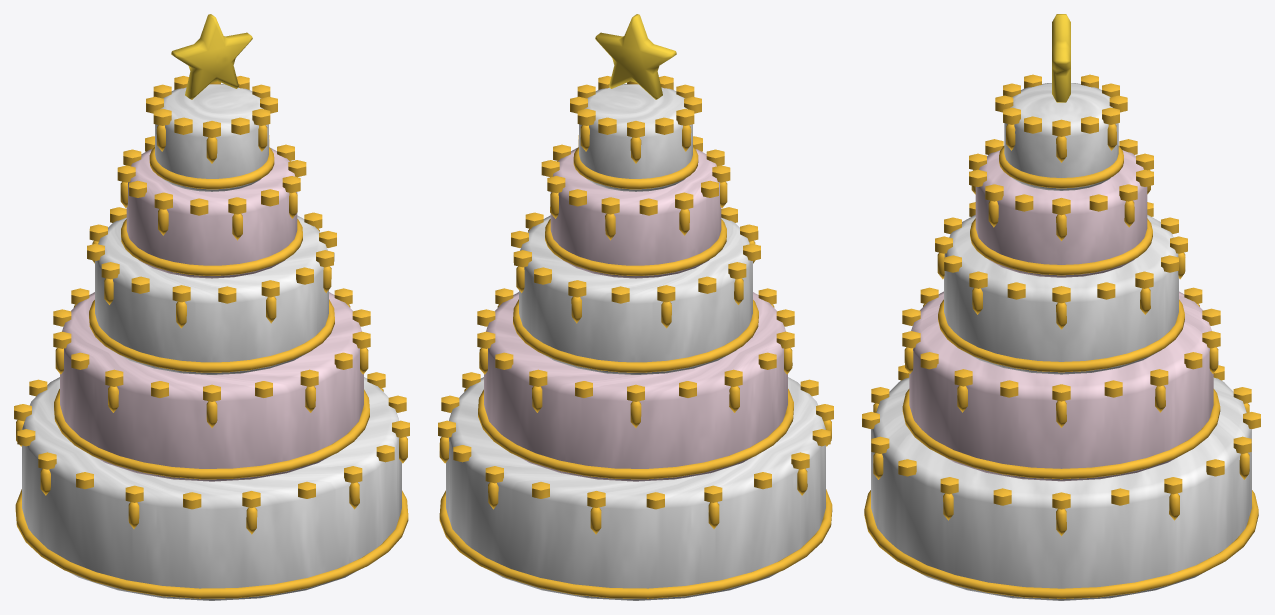
File: GrandCake.glb
3 views of the same model, side by side, from view 1: azimuth 30°, elevation 25°; view 2: azimuth 150°, elevation 25°; view 3: azimuth 270°, elevation 25° (orthographic).
Parts seen in each view (by area): view 1: Tier1, Tier2, Tier3, Tier4, Trim1, Trim2, Tier5, Trim3, Trim4, Trim5, Topper; view 2: Tier1, Tier2, Tier3, Tier4, Trim1, Trim2, Tier5, Trim3, Trim4, Trim5, Topper; view 3: Tier1, Tier2, Tier3, Tier4, Trim1, Trim2, Tier5, Trim3, Trim4, Trim5, Topper.
Boxes of the visible parts, box(x1,y1,x2,y2) form: Tier1: box(22, 377, 401, 600); Tier2: box(60, 292, 363, 481); Tier3: box(95, 215, 328, 374); Tier4: box(126, 147, 297, 278); Trim1: box(14, 372, 409, 598); Trim2: box(53, 288, 370, 479); Tier5: box(155, 84, 268, 191); Trim3: box(87, 207, 336, 372); Trim4: box(117, 135, 306, 275); Trim5: box(146, 76, 277, 189); Topper: box(171, 14, 252, 99); Tier1: box(446, 377, 825, 600); Tier2: box(484, 292, 787, 481); Tier3: box(519, 215, 752, 374); Tier4: box(550, 147, 721, 278); Trim1: box(438, 372, 833, 598); Trim2: box(477, 288, 794, 479); Tier5: box(579, 84, 692, 191); Trim3: box(511, 207, 760, 372); Trim4: box(541, 135, 730, 275); Trim5: box(570, 76, 701, 189); Topper: box(595, 14, 676, 99); Tier1: box(871, 377, 1251, 600); Tier2: box(909, 291, 1213, 481); Tier3: box(944, 215, 1178, 374); Tier4: box(975, 150, 1147, 277); Trim1: box(862, 365, 1260, 598); Trim2: box(902, 287, 1220, 479); Tier5: box(1004, 83, 1118, 190); Trim3: box(935, 202, 1187, 372); Trim4: box(969, 139, 1153, 275); Trim5: box(995, 74, 1127, 188); Topper: box(1052, 14, 1070, 102).
Bounding box in the file's own units: 12.66 × 17.66 × 12.57.
Materials: 11 (11 with a texture image).
